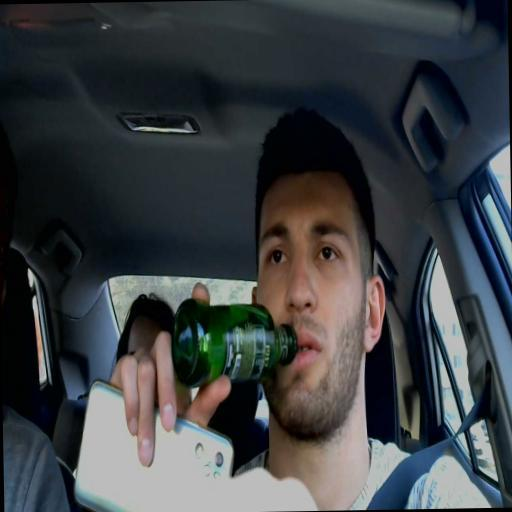Drinking: (171, 174, 383, 432)
